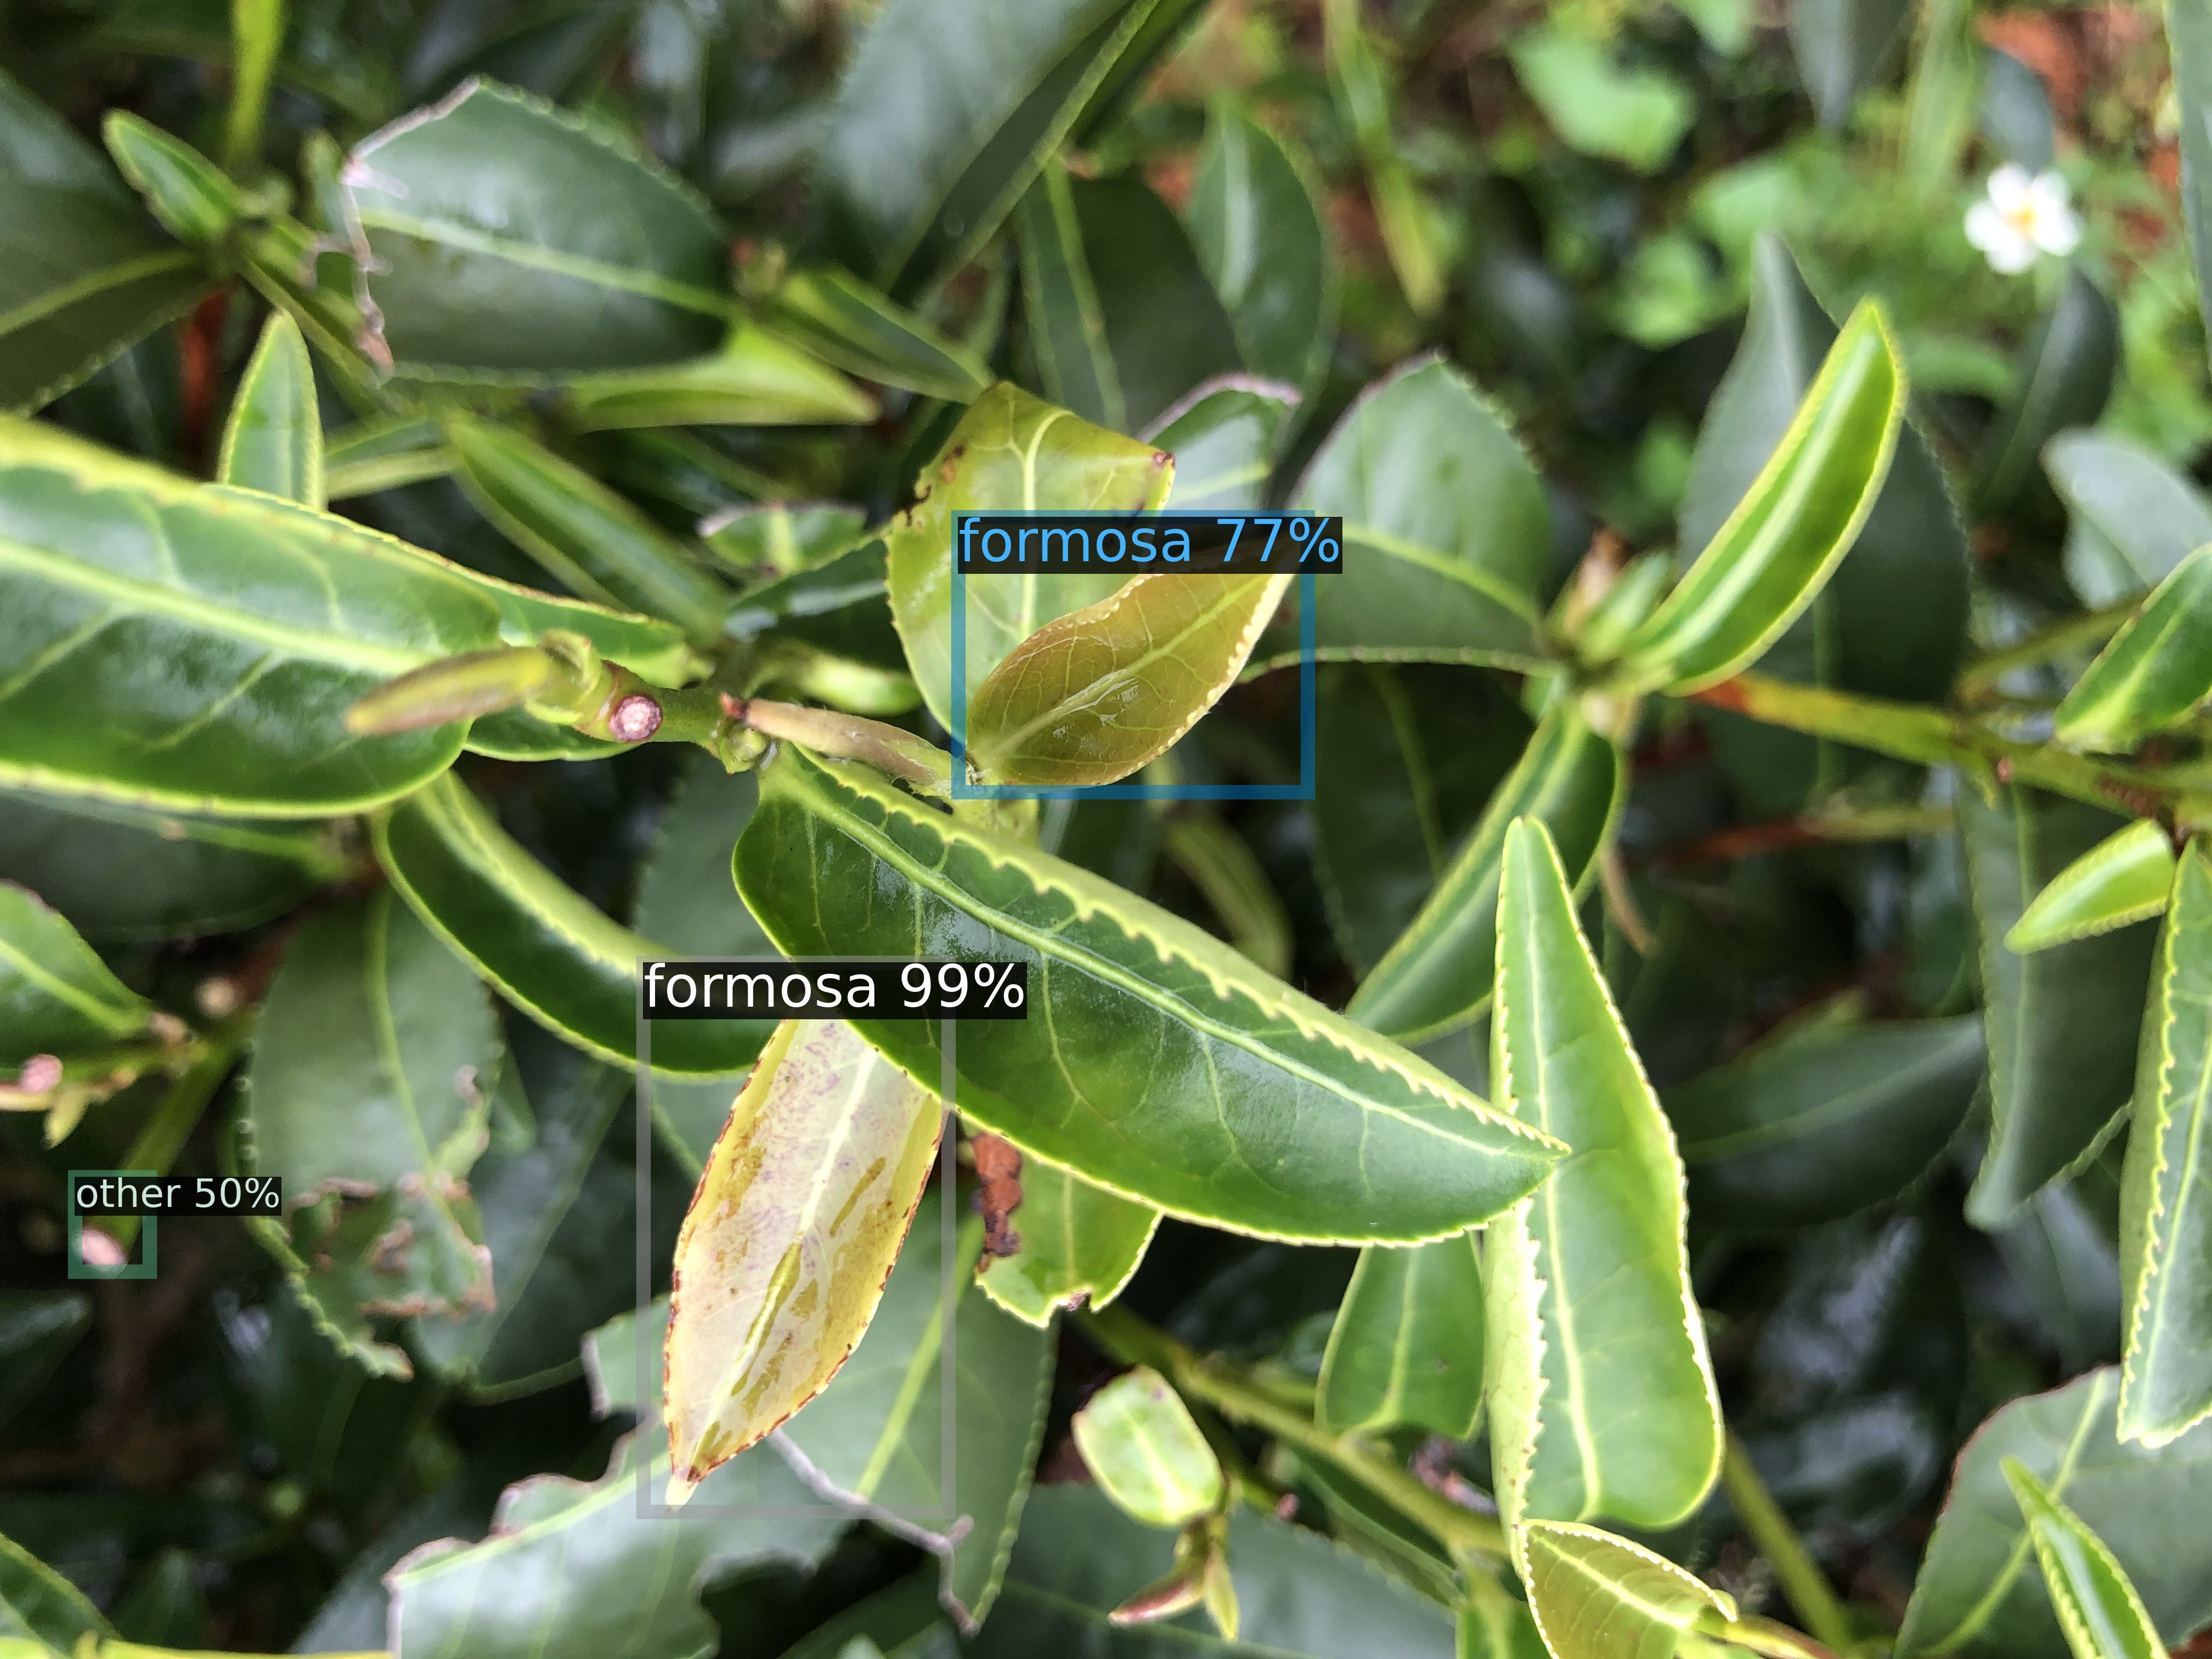formosa: (643, 962, 949, 1513), (958, 518, 1308, 793)
other: (75, 1178, 150, 1270)
